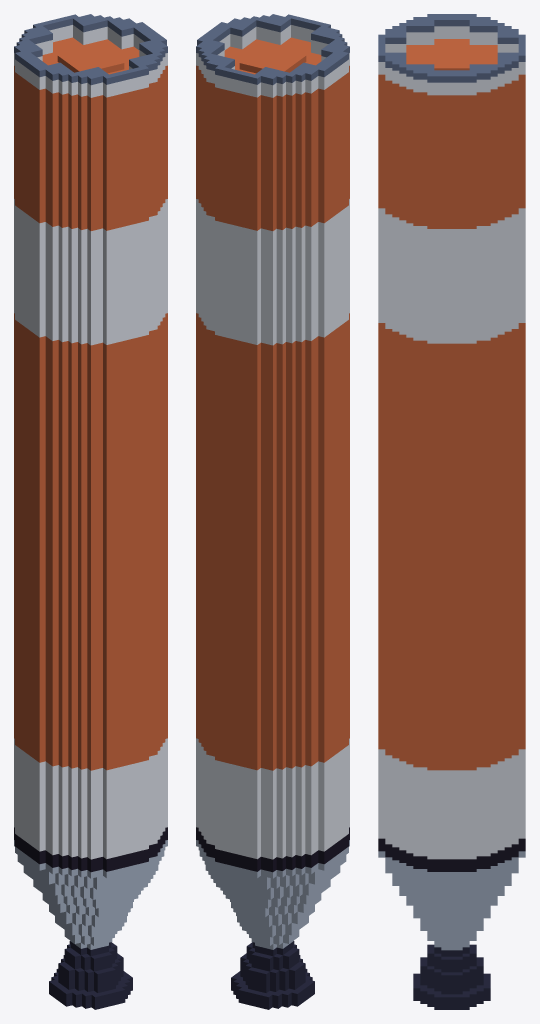
File: Lake_IV_first_stage.glb
3 views of the same model, side by side, from view 1: azimuth 30°, elevation 25°; view 2: azimuth 150°, elevation 25°; view 3: azimuth 270°, elevation 25° (orthographic).
Visible parts, largest first — view 1: ObjObject.016; view 2: ObjObject.016; view 3: ObjObject.016.
Boxes of the visible parts, bbox=[...] form: ObjObject.016: bbox=[14, 14, 167, 1009]; ObjObject.016: bbox=[196, 14, 349, 1009]; ObjObject.016: bbox=[378, 14, 525, 1009].
Bounding box in the file's own units: 2.1 × 14.9 × 2.1.
Materials: 1 (1 with a texture image).
